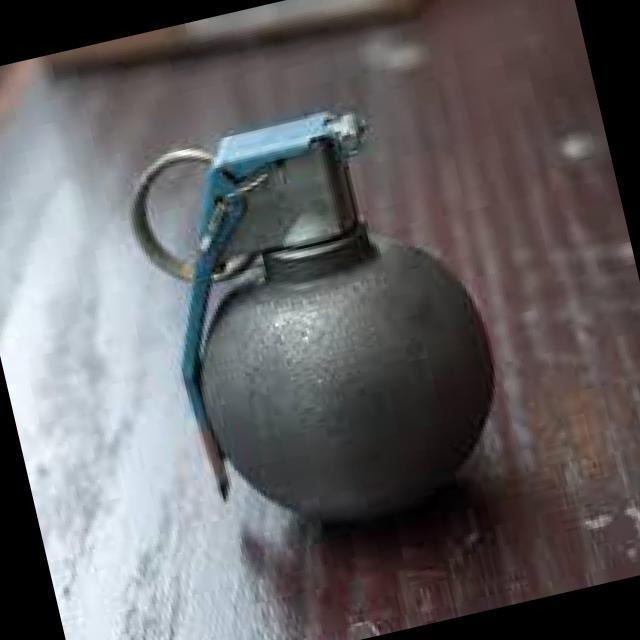grenade: (122, 71, 532, 568)
